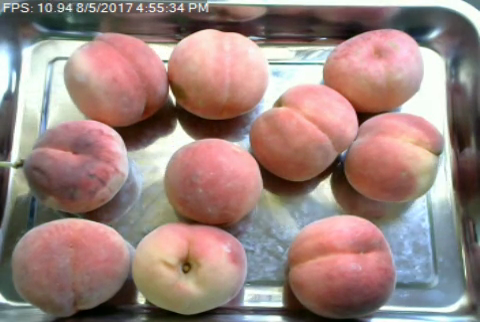Peach: (10, 216, 128, 316), (285, 215, 395, 319), (248, 83, 357, 182), (135, 221, 246, 316), (63, 32, 169, 127), (25, 117, 127, 213), (168, 25, 268, 121), (321, 26, 425, 114), (342, 112, 442, 202), (162, 138, 262, 226)
